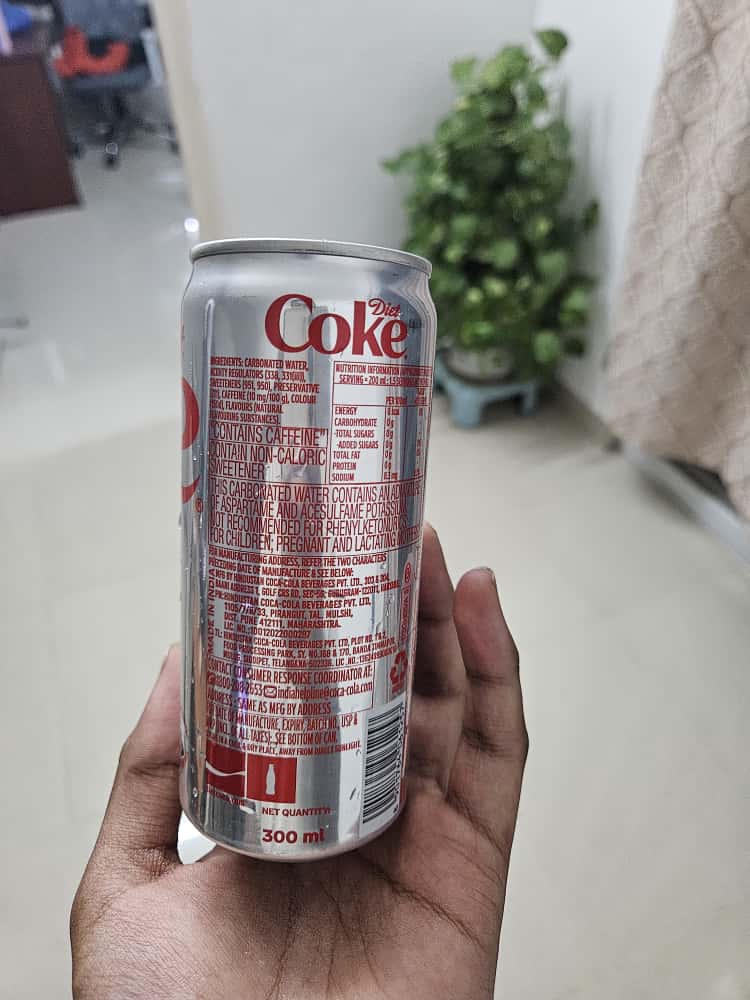dry: (159, 221, 439, 867)
